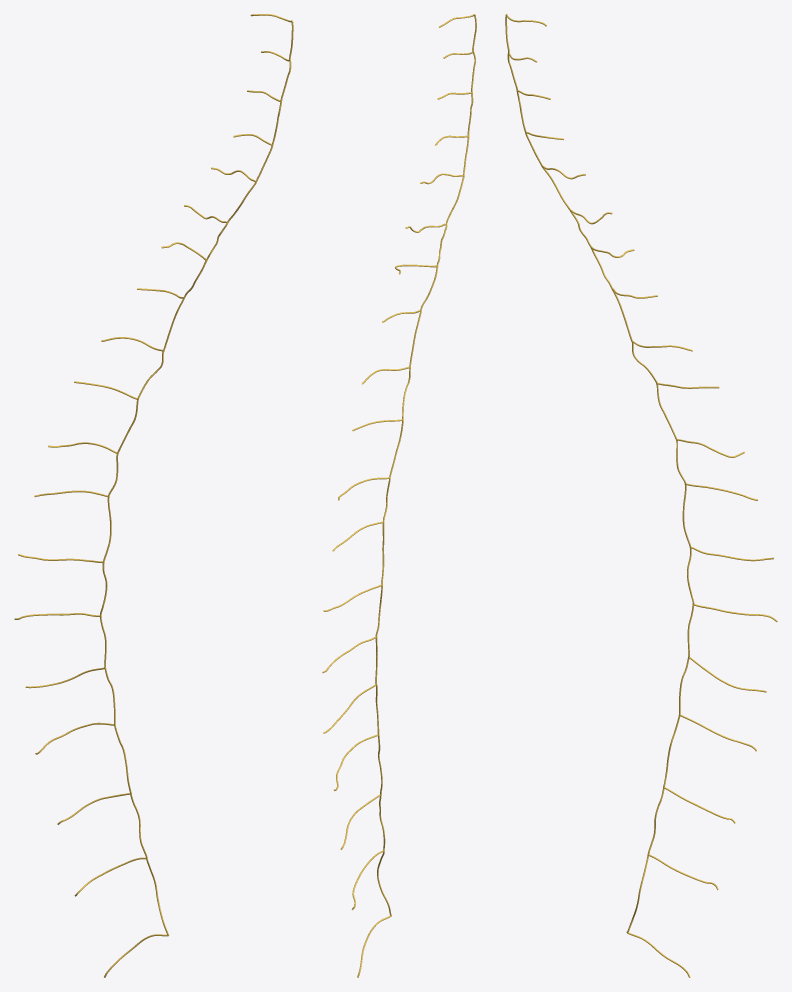
File: Sympathetic_nerves_left.glb
3 renders of one model, left to right at view 1: azimuth 90°, elevation 25°; view 2: azimuth 150°, elevation 25°; view 3: azimuth 270°, elevation 25°, orthographic. The views are drawn at different scales.
Parts seen in each view (by area): view 1: Sympathetic_nerves.l_BezierCurve.367; view 2: Sympathetic_nerves.l_BezierCurve.367; view 3: Sympathetic_nerves.l_BezierCurve.367.
Boxes of the visible parts, x1,y1,x2,y2 form: Sympathetic_nerves.l_BezierCurve.367: (14, 14, 293, 977); Sympathetic_nerves.l_BezierCurve.367: (322, 14, 476, 977); Sympathetic_nerves.l_BezierCurve.367: (505, 14, 777, 977).
Size of the model in its own units: 0.0185 by 0.3763 by 0.0979.
